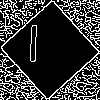I: (25, 25, 41, 71)
